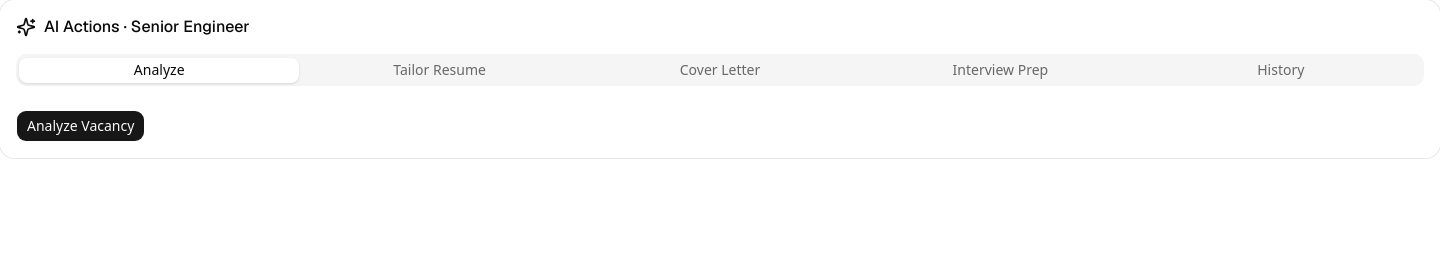
AiActionsPanel › shows an error message when tailoring fails to enqueue
What coordinates should you click on to do the following:
click the tab "Tailor Resume"
I would click on:
 (440, 70)
Its box is [299, 58, 580, 82].
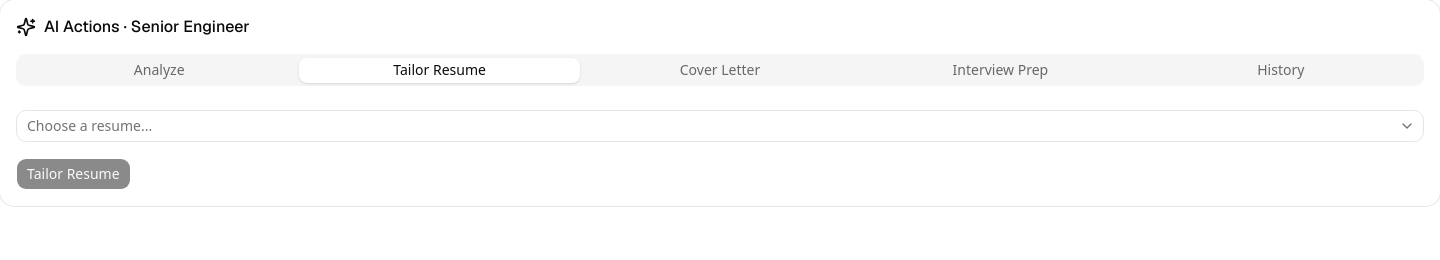
Check: the number of dropdowns is 1
What coordinates should you click on to do the following:
click the dropdown
I would click on:
 (90, 126)
Its box is [16, 110, 1424, 142].
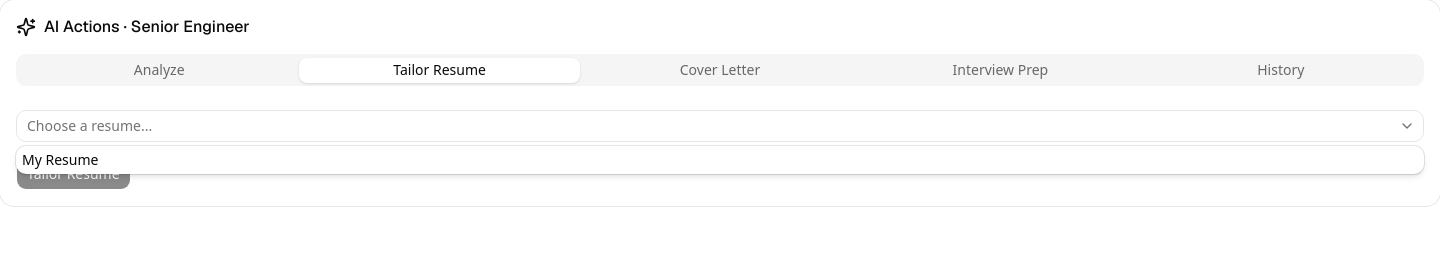
What coordinates should you click on to do the following:
click the option "My Resume"
I would click on:
 (60, 160)
Its box is [22, 150, 98, 169].
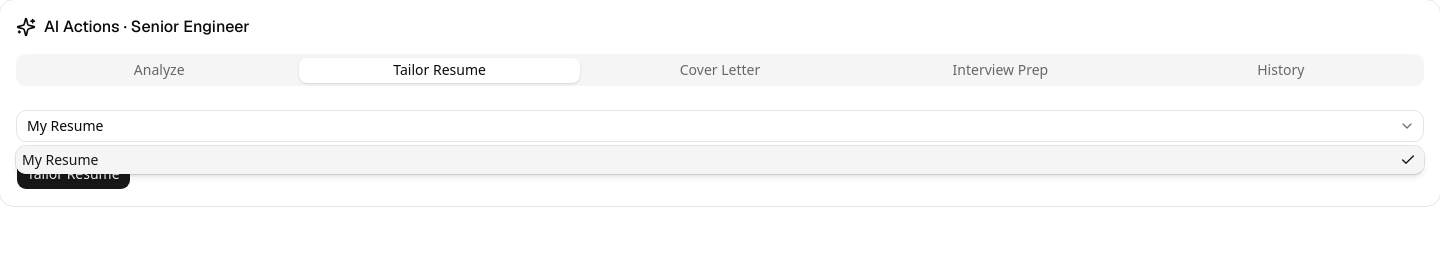
What coordinates should you click on to do the following:
click the button "Tailor Resume"
I would click on:
 (73, 174)
Its box is [16, 158, 131, 190].
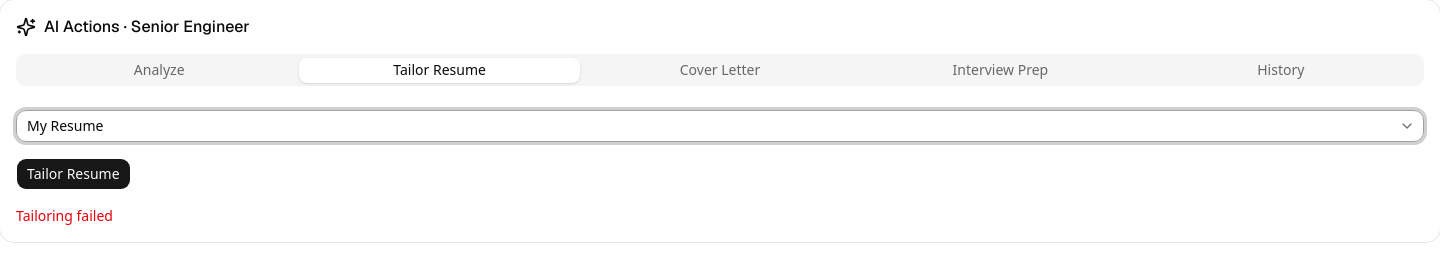
Check: the text "Tailoring failed" is shown, box [16, 206, 113, 225]
